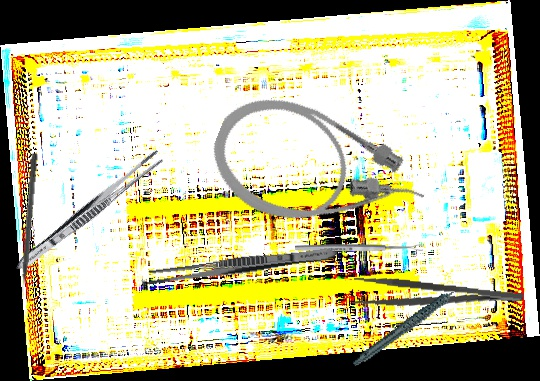Cannula: (196, 78, 440, 267)
Dressing Forceps: (11, 145, 167, 277), (146, 243, 338, 288), (352, 274, 524, 320)
Handpiece: (341, 282, 481, 368)
Pusher: (16, 152, 39, 304)
Surgical Spoon: (295, 244, 423, 252)
